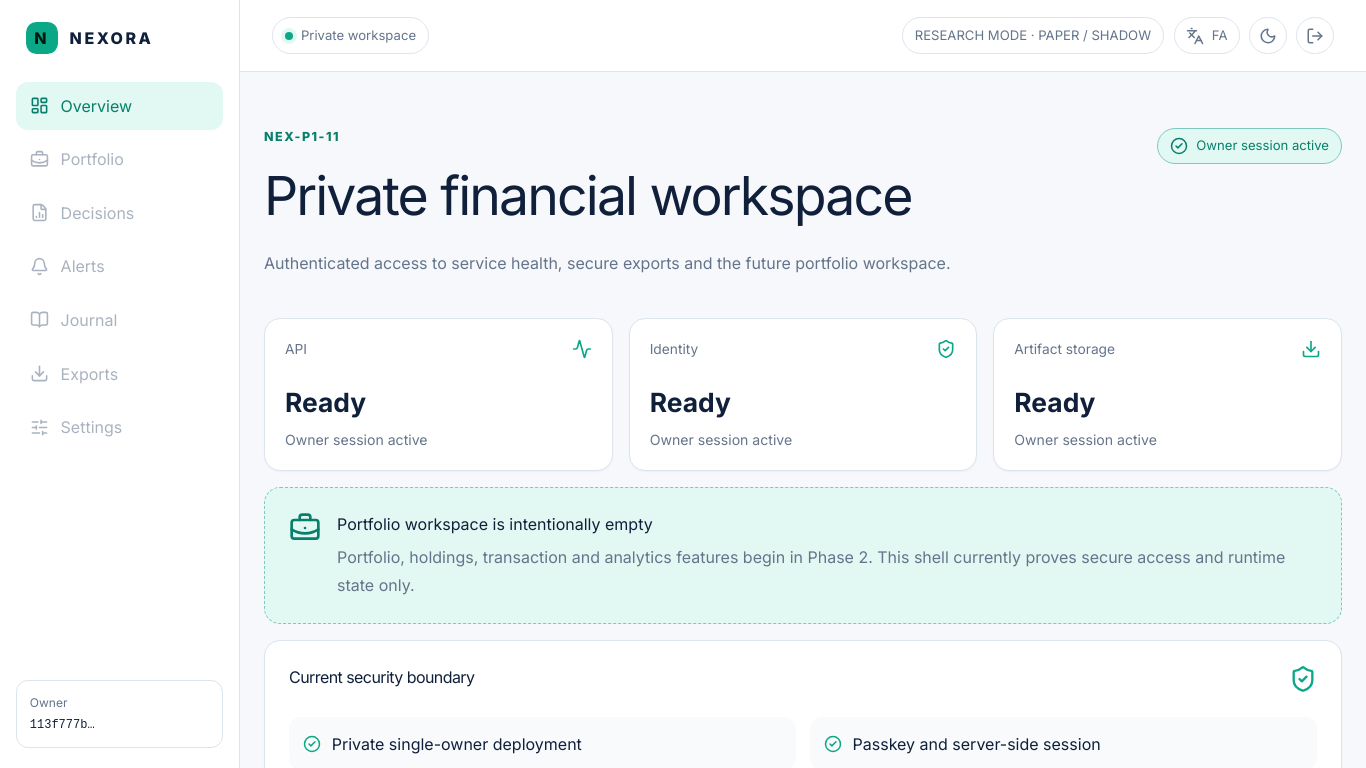
Test: AuthenticatedShell › renders the owner shell and logs out through the CSRF-aware client
Expected: the heading "Private financial workspace" is shown, [264, 156, 950, 236]
Expected: the text "113f777b…" is shown, [30, 718, 95, 732]
Step 1. Click the button named "Sign out" → [1315, 36], box [1296, 17, 1334, 54]
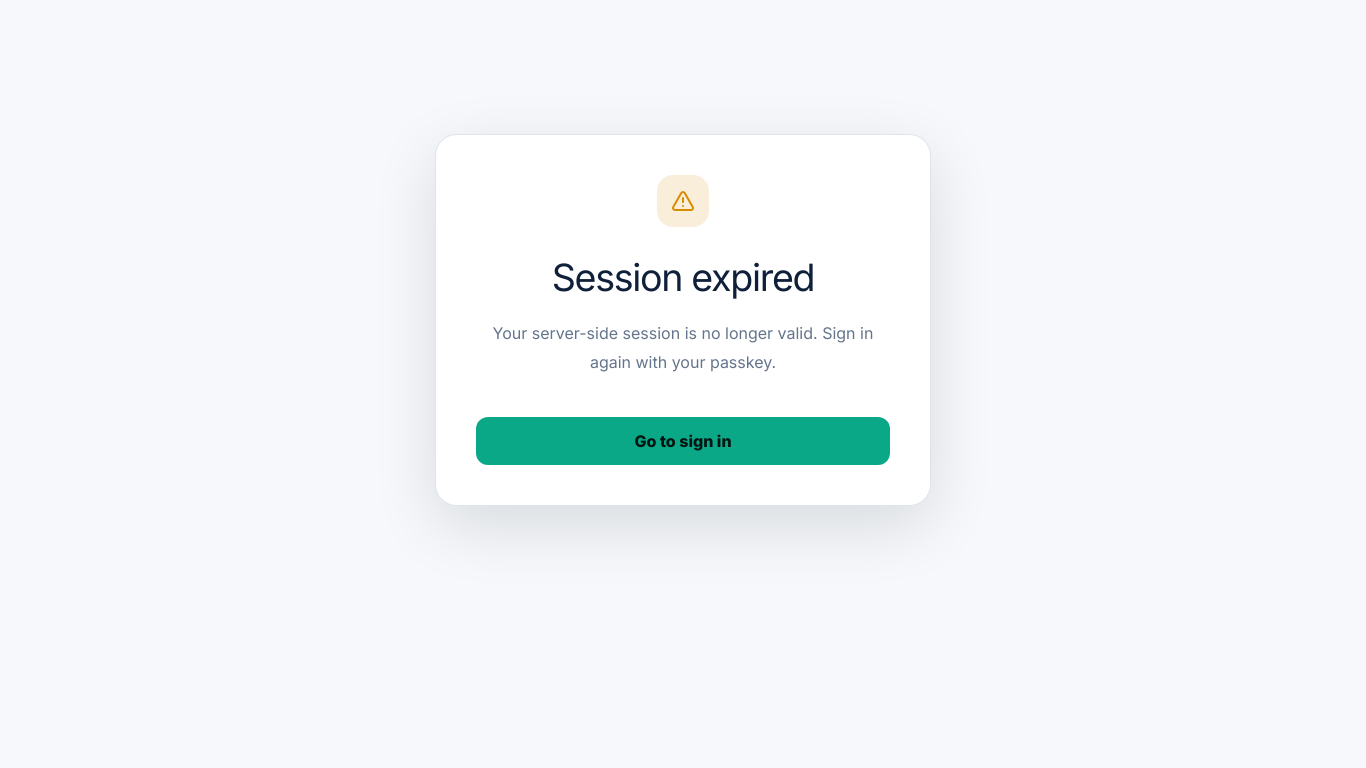
Expected: the heading "Session expired" is shown, [552, 255, 814, 300]
